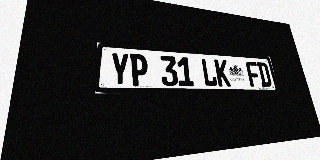1: (176, 57, 194, 86)
3: (160, 56, 178, 86)
D: (256, 62, 272, 87)
F: (245, 61, 262, 87)
K: (214, 59, 231, 87)
L: (201, 58, 218, 86)
P: (130, 54, 148, 86)
Y: (110, 52, 130, 86)
